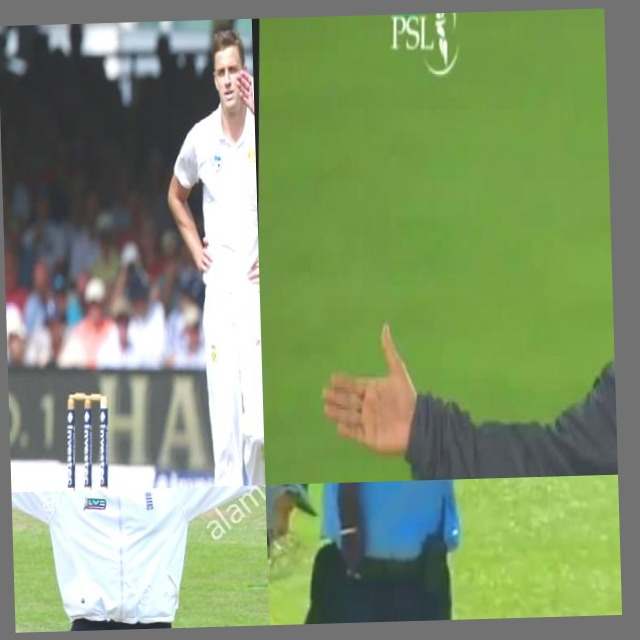No_Ball: (305, 43, 618, 483)
Wide: (265, 475, 599, 625), (11, 485, 270, 633)
